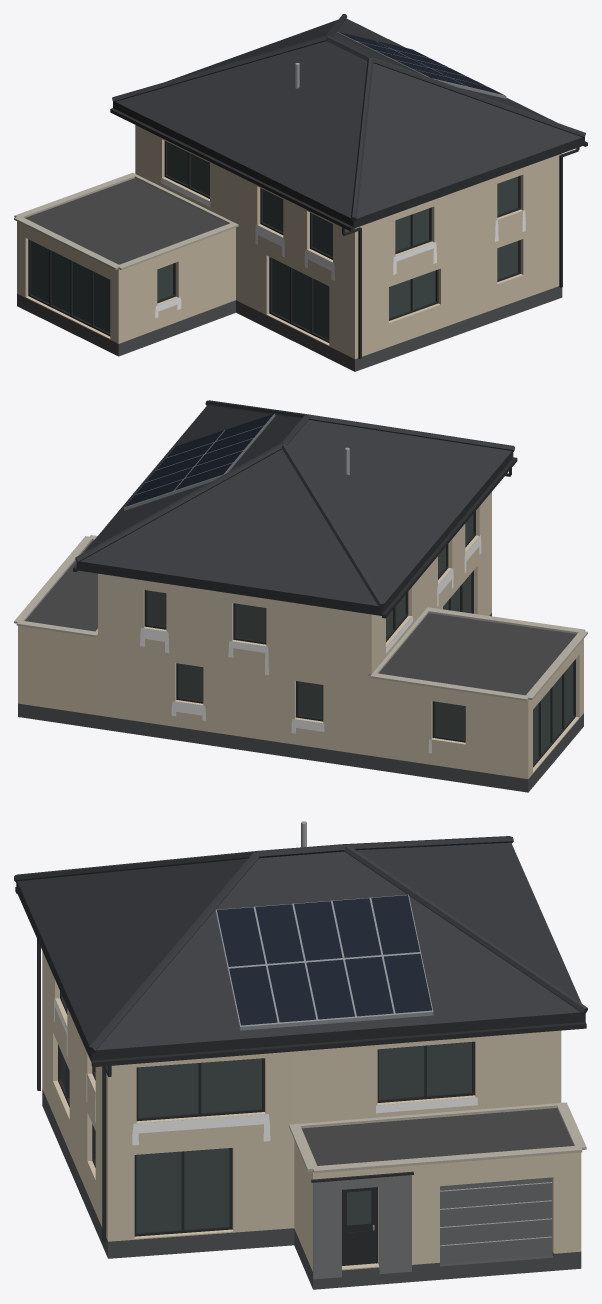
File: vh_solar_house.glb
The picture shows the model from 3 angles, top to bottom: view 1: azimuth 30°, elevation 25°; view 2: azimuth 150°, elevation 25°; view 3: azimuth 270°, elevation 25°; orthographic projection. The views are drawn at different scales.
Parts seen in each view (by area): view 1: vh_roof, vh_brick, vh_glass, vh_stone, vh_trim, vh_frames_small, vh_solar, vh_streaks_small; view 2: vh_brick, vh_roof, vh_stone, vh_trim, vh_glass, vh_solar, vh_frames_small, vh_streaks_small; view 3: vh_roof, vh_brick, vh_trim, vh_solar, vh_glass, vh_stone, vh_frames_small, vh_slate, vh_streaks_small.
Part boxes in pixels (x1,y1,x2,y2): vh_roof: (112,14,585,221); vh_brick: (17,125,562,358); vh_glass: (31,142,518,339); vh_stone: (14,172,238,270); vh_trim: (17,102,584,371); vh_frames_small: (28,108,587,358); vh_solar: (336,32,506,98); vh_streaks_small: (155,178,525,318); vh_brick: (18,492,583,778); vh_roof: (75,400,514,608); vh_stone: (14,535,587,701); vh_trim: (18,451,583,792); vh_glass: (147,514,573,762); vh_solar: (124,413,275,510); vh_frames_small: (73,457,575,767); vh_streaks_small: (140,535,481,753); vh_roof: (14,836,587,1053); vh_brick: (42,951,581,1271); vh_trim: (16,882,585,1289); vh_solar: (215,894,433,1030); vh_glass: (61,1042,471,1232); vh_stone: (289,1102,586,1173); vh_frames_small: (15,887,586,1263); vh_slate: (313,1175,411,1279); vh_streaks_small: (53,998,477,1145).
Size of the model in its own units: 19.15 by 9.06 by 14.89.
